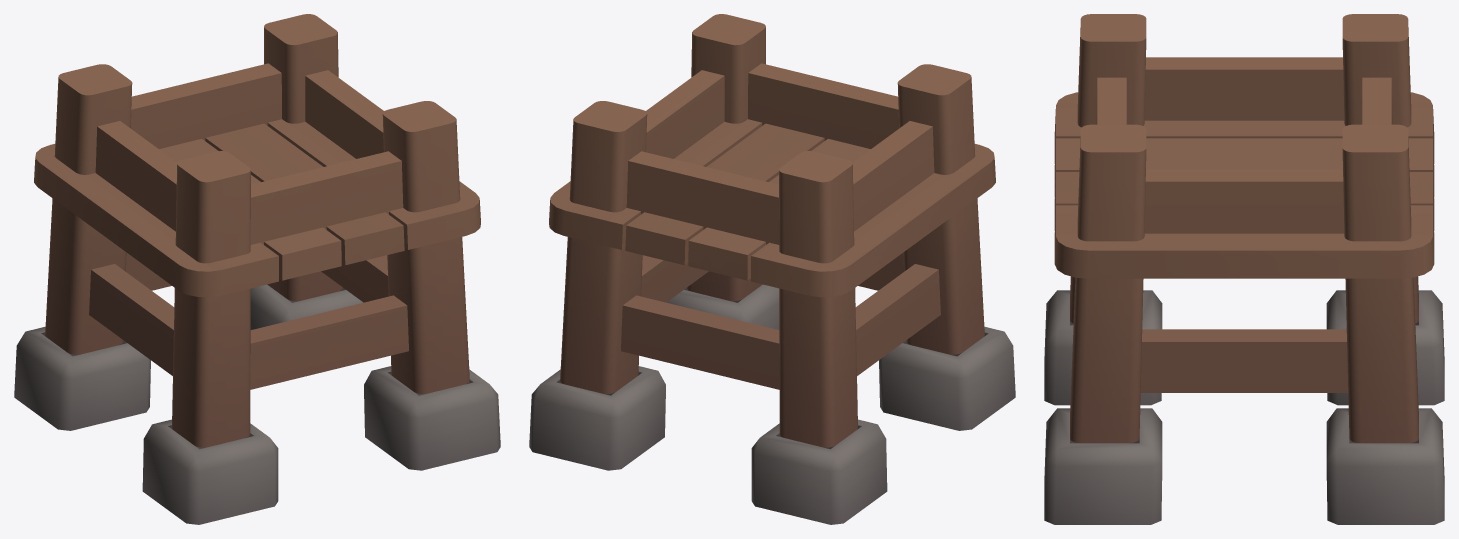
File: archerTower_short.fbx
3 views of the same model, side by side, from view 1: azimuth 30°, elevation 25°; view 2: azimuth 150°, elevation 25°; view 3: azimuth 270°, elevation 25° (orthographic). The views are drawn at different scales.
Parts seen in each view (by area): view 1: archerTower_1.005; view 2: archerTower_1.005; view 3: archerTower_1.005.
Boxes of the visible parts, box(x1,y1,x2,y2) form: archerTower_1.005: box(14, 14, 500, 524); archerTower_1.005: box(529, 14, 1015, 524); archerTower_1.005: box(1044, 14, 1444, 524).
Size of the model in its own units: 135 by 133 by 135.
